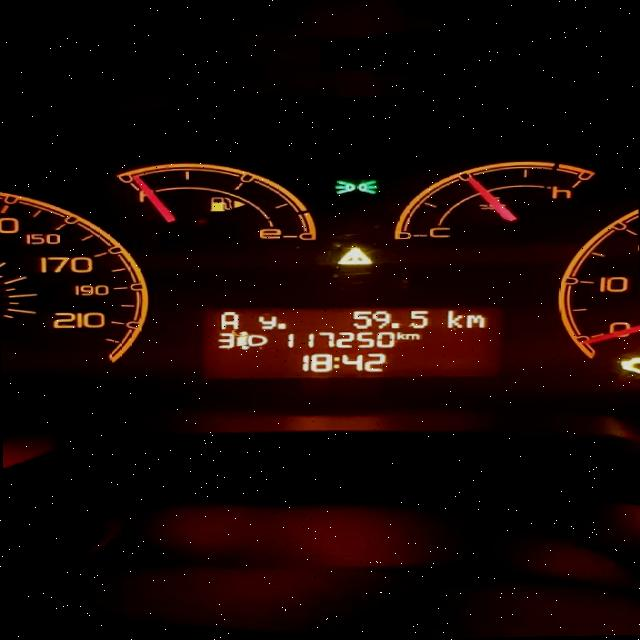odometer: (186, 296, 512, 384)
